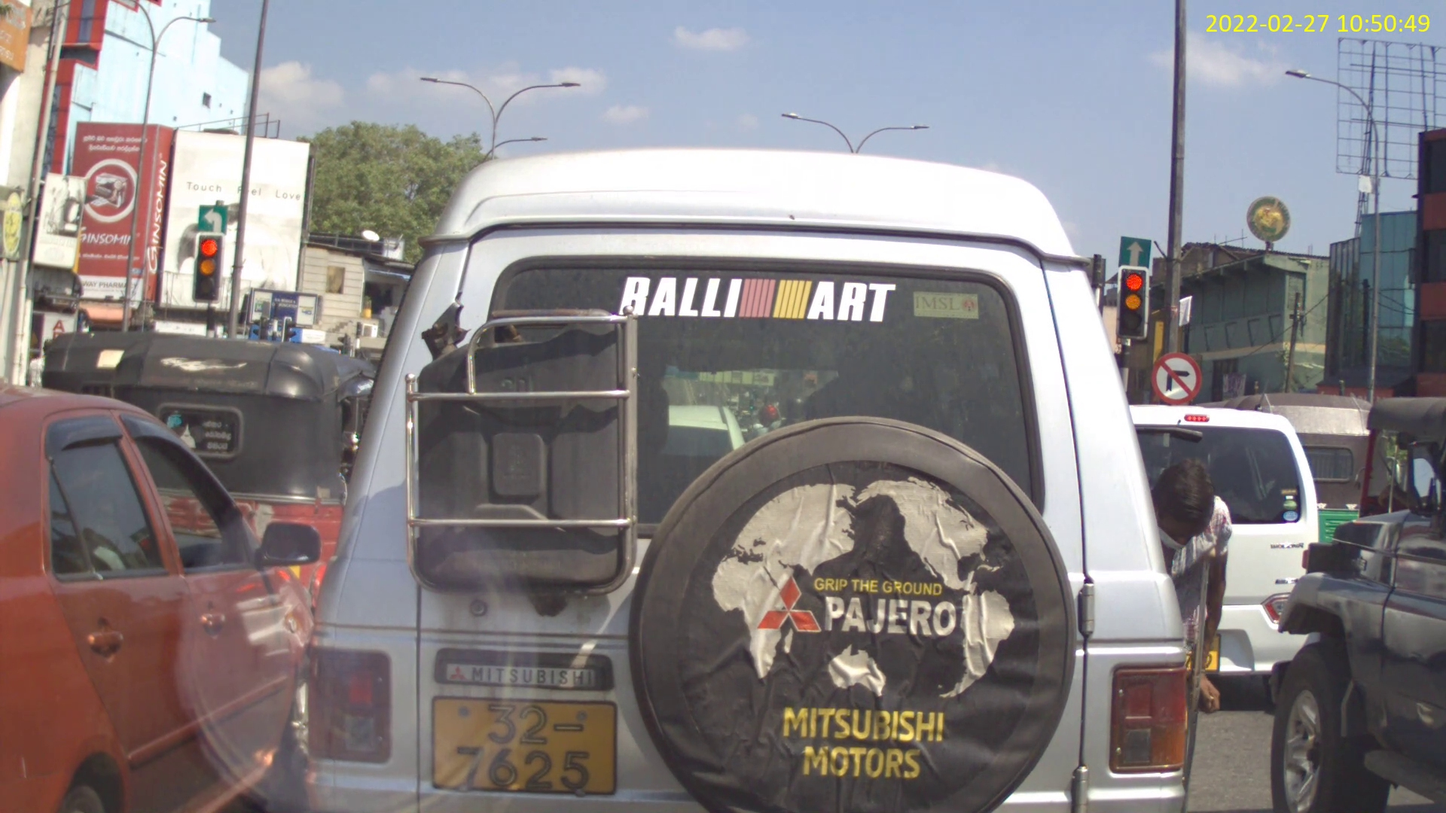Red-Yellow: (1115, 265, 1149, 338), (192, 231, 224, 303)
